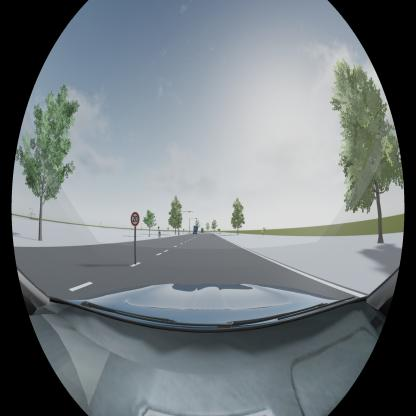Green Light: (188, 210, 190, 212)
Speed Limit 20: (131, 212, 139, 226)
